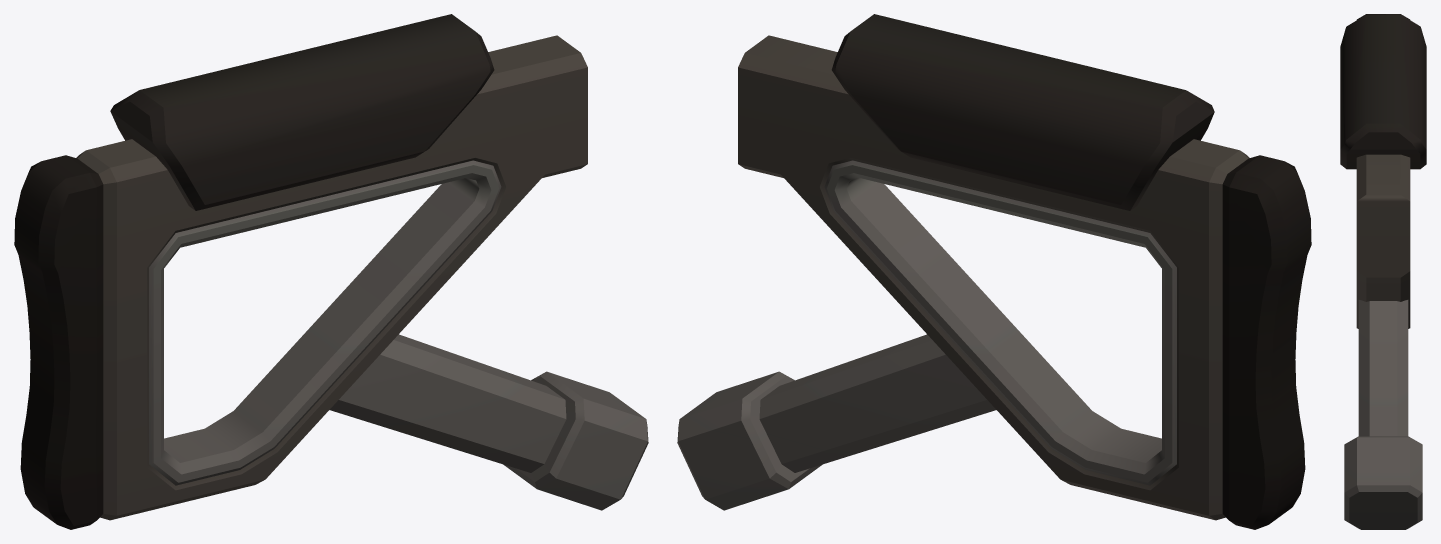
Rendered from AR2_ButtstockHeavy.fbx.
3 renders of one model, left to right at view 1: azimuth 30°, elevation 25°; view 2: azimuth 150°, elevation 25°; view 3: azimuth 270°, elevation 25°, orthographic. The views are drawn at different scales.
Parts seen in each view (by area): view 1: AR2_ButtstockHeavy; view 2: AR2_ButtstockHeavy; view 3: AR2_ButtstockHeavy.
Boxes of the visible parts, x1,y1,x2,y2 form: AR2_ButtstockHeavy: (14, 14, 648, 529); AR2_ButtstockHeavy: (677, 14, 1311, 529); AR2_ButtstockHeavy: (1340, 14, 1426, 529).
Bounding box in the file's own units: 24.04 × 19.21 × 4.16.
